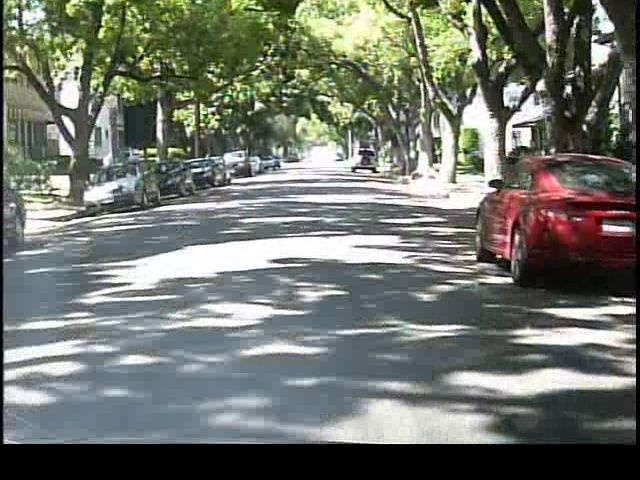person: (101, 146, 124, 197)
